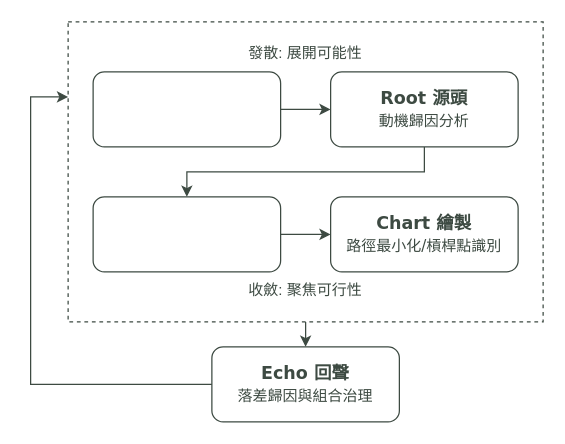
Some shapes in this 565 by 444 pixel diagram are drawn without their labels. The shapes that lost their labels are listed below. From the top down, each one's box as (x1, y1, x2, y2) in pixels, then its label:
(92, 71, 281, 147): Target 目標 終端效度檢定
(92, 196, 281, 272): Armor 疊甲 資源盤點/事前承諾
